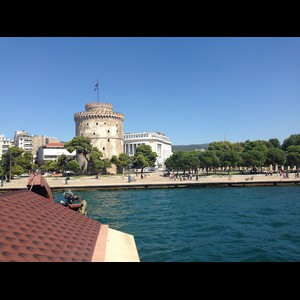White Tower: (71, 78, 126, 175)
